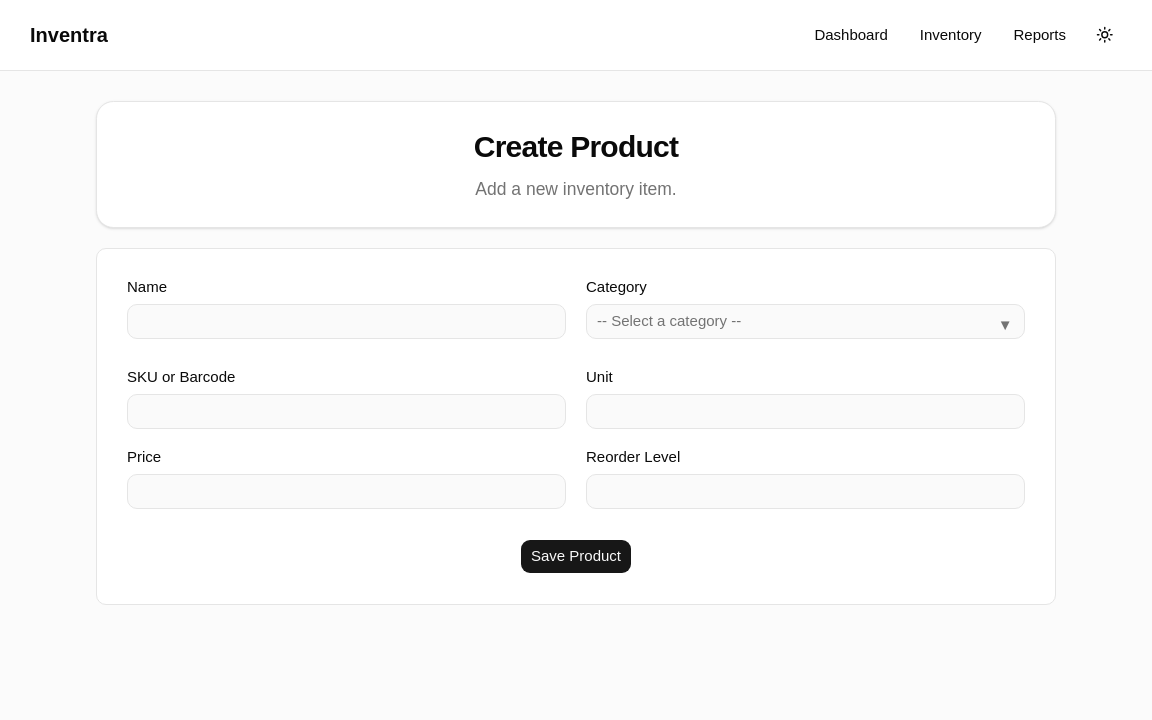
Product Create Page Tests › loads categories on mount
The width and height of the screenshot is (1152, 720).
Click the dropdown: (669, 321) [586,304,1025,339]
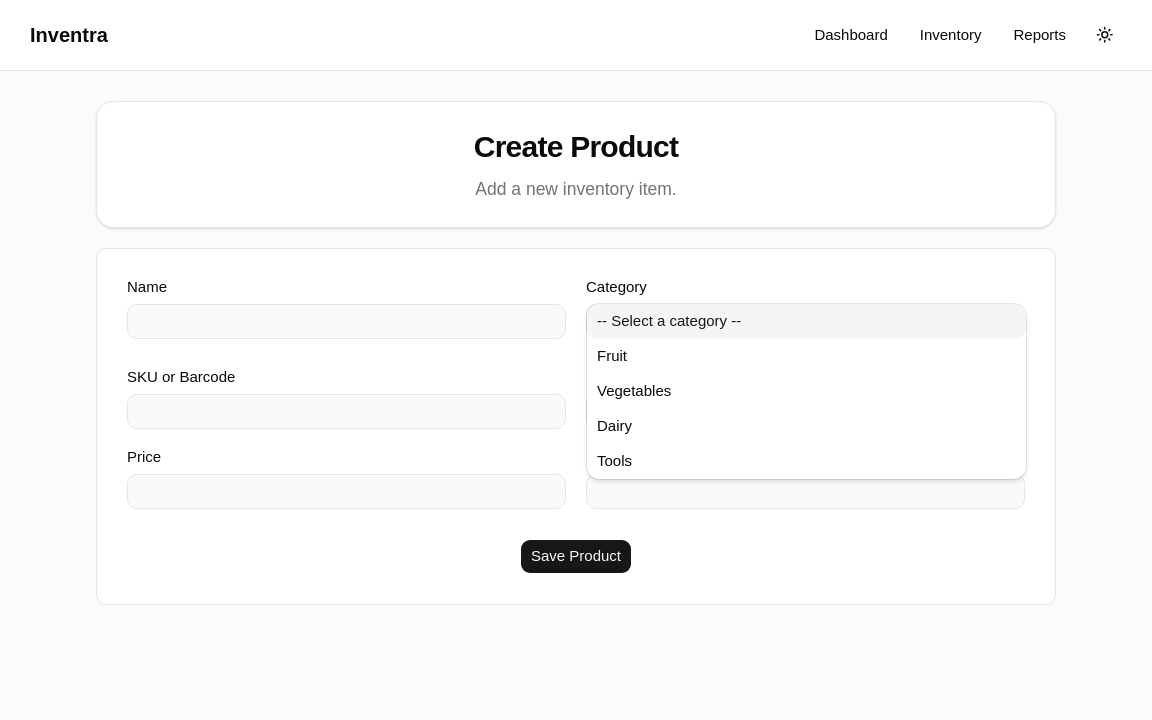
Check: the option "Fruit" is shown, box [597,347,627,364]
Check: the option "Vegetables" is shown, box [597,382,671,399]
Check: the option "Dairy" is shown, box [597,417,632,434]
